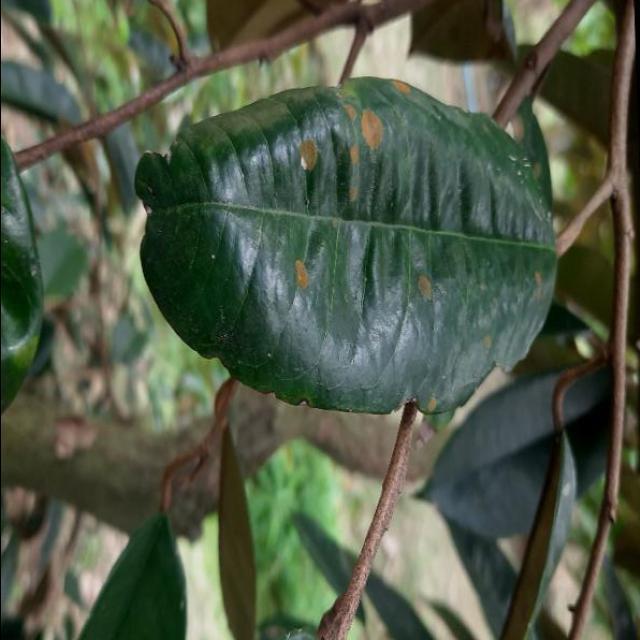Algal Leaf Spot: (133, 68, 570, 426)
